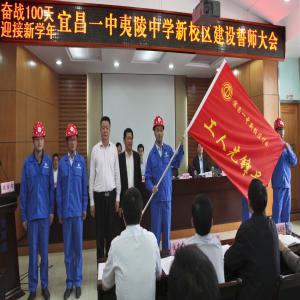none: (121, 185, 147, 234), (192, 194, 216, 241), (247, 178, 271, 220), (100, 116, 114, 148), (124, 127, 135, 153), (137, 144, 147, 162), (53, 153, 61, 171), (116, 141, 124, 158), (197, 142, 204, 156)
red: (32, 121, 48, 157), (65, 123, 80, 156), (152, 115, 166, 144), (274, 117, 287, 143)
